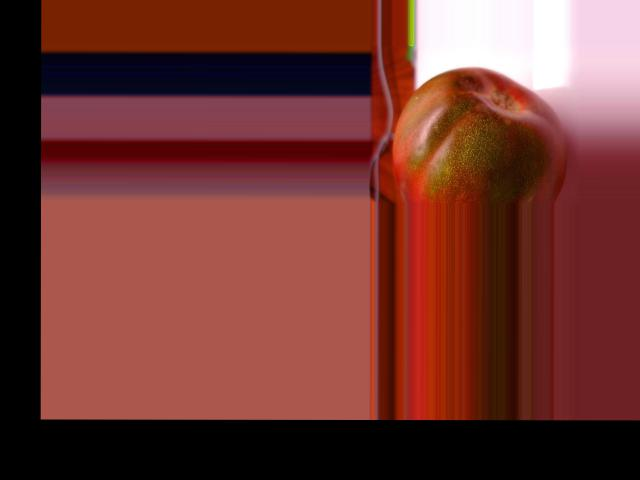tomato: (391, 67, 566, 203)
